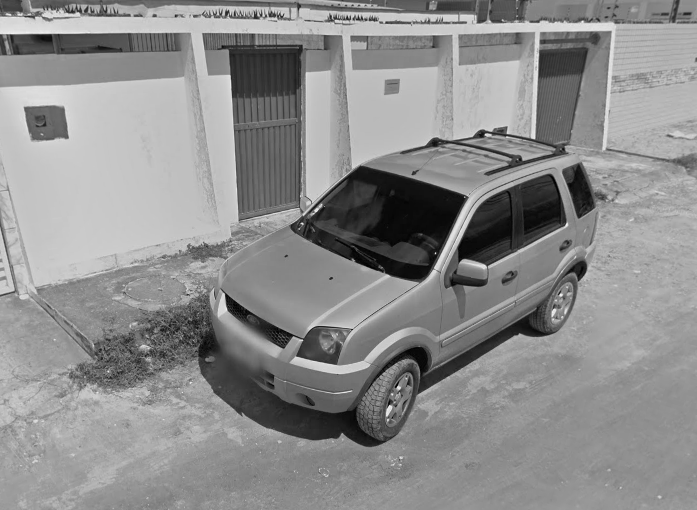car: (202, 127, 602, 444)
